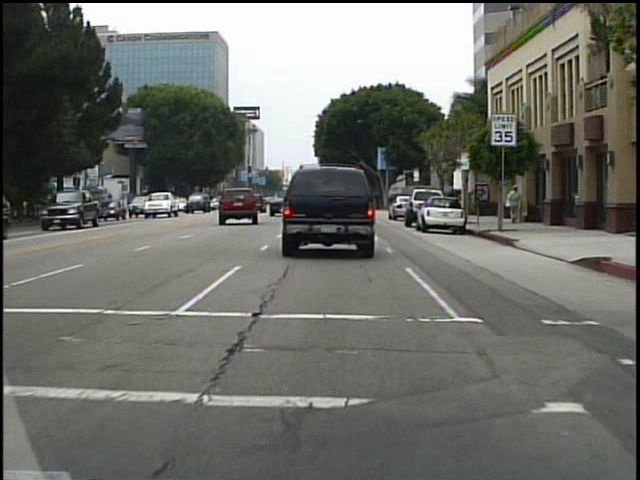person: (506, 182, 525, 228), (446, 185, 461, 220)
